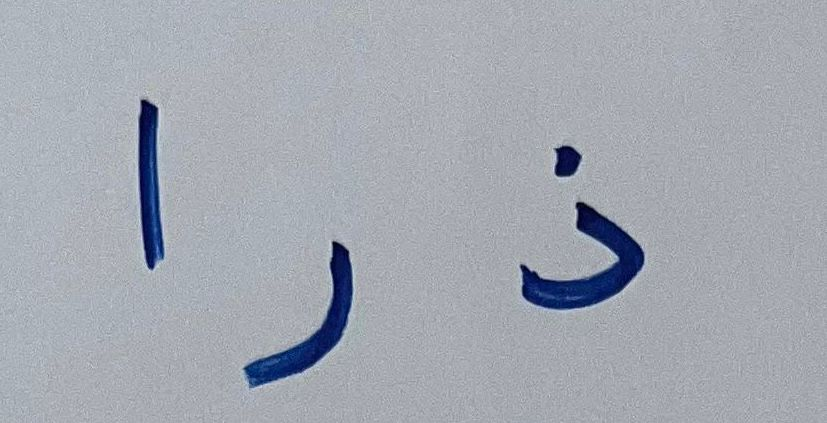ghain: (103, 60, 207, 300)
reh: (214, 205, 410, 404)
thal: (451, 118, 669, 355)
